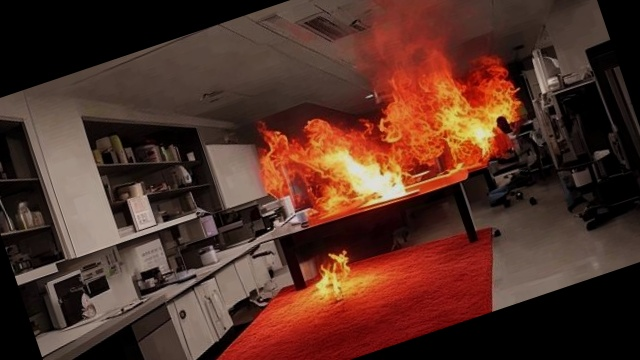fire: (220, 0, 545, 259)
